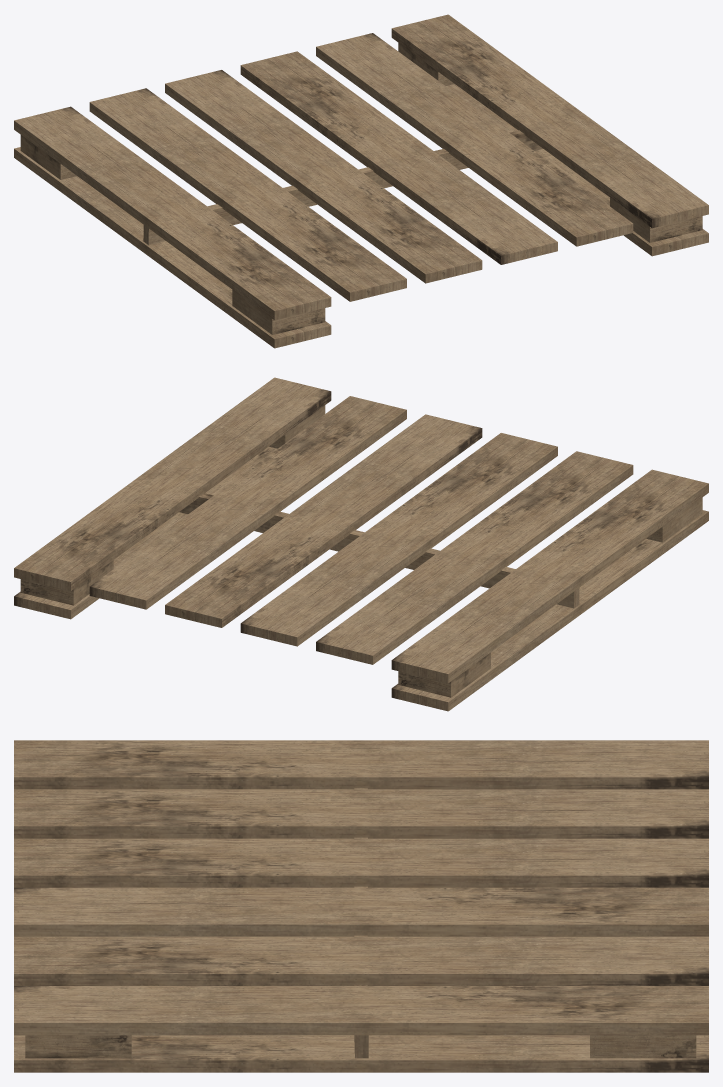
The model's file is pallet.glb.
3 renders of one model, top to bottom at view 1: azimuth 30°, elevation 25°; view 2: azimuth 150°, elevation 25°; view 3: azimuth 270°, elevation 25°, orthographic. The views are drawn at different scales.
Parts seen in each view (by area): view 1: pallet; view 2: pallet; view 3: pallet.
Boxes of the visible parts, left/top/right/bottom form: pallet: left=14, top=14, right=708, bottom=348; pallet: left=14, top=377, right=708, bottom=711; pallet: left=14, top=740, right=708, bottom=1072.
Bounding box in the file's own units: 1.24 × 0.1016 × 1.29.
Materials: 1 (1 with a texture image).
